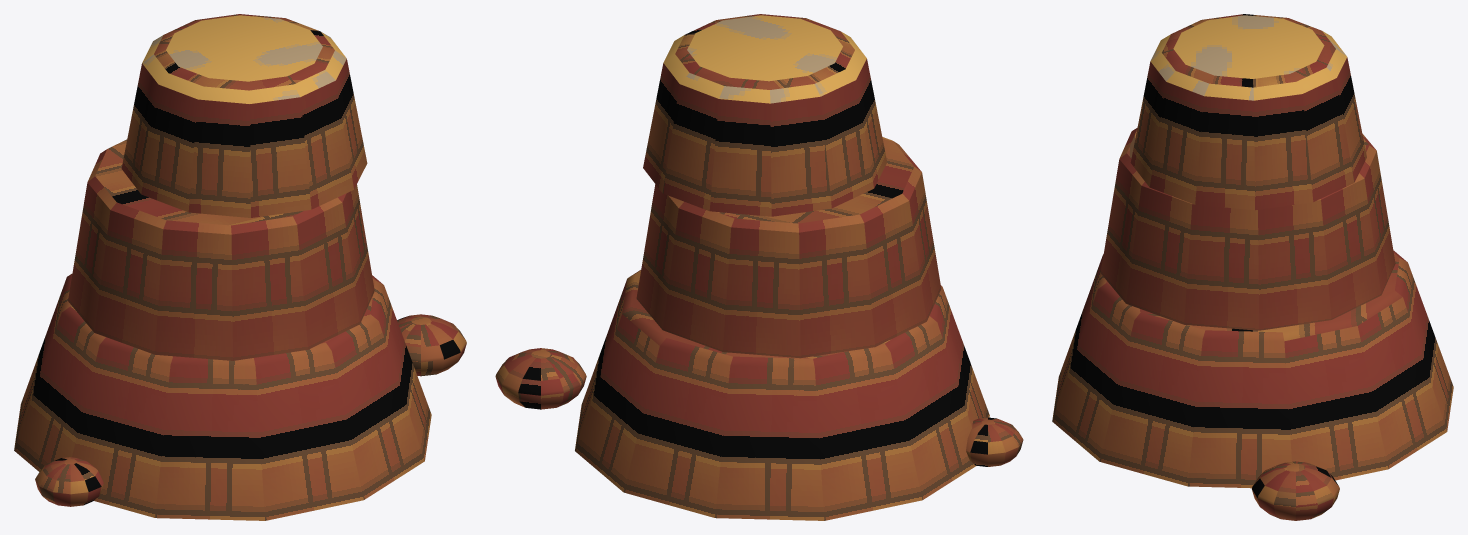
File: spec_desert_rock_3.glb
3 renders of one model, left to right at view 1: azimuth 30°, elevation 25°; view 2: azimuth 150°, elevation 25°; view 3: azimuth 270°, elevation 25°, orthographic. The views are drawn at different scales.
Visible parts, largest first — view 1: spec_desert_rock_3; view 2: spec_desert_rock_3; view 3: spec_desert_rock_3.
Boxes of the visible parts, x1,y1,x2,y2 form: spec_desert_rock_3: (14,14,466,520); spec_desert_rock_3: (495,14,1023,520); spec_desert_rock_3: (1052,14,1453,520).
Size of the model in its own units: 3.18 by 2.49 by 2.44.
2 materials, 2 textured.
